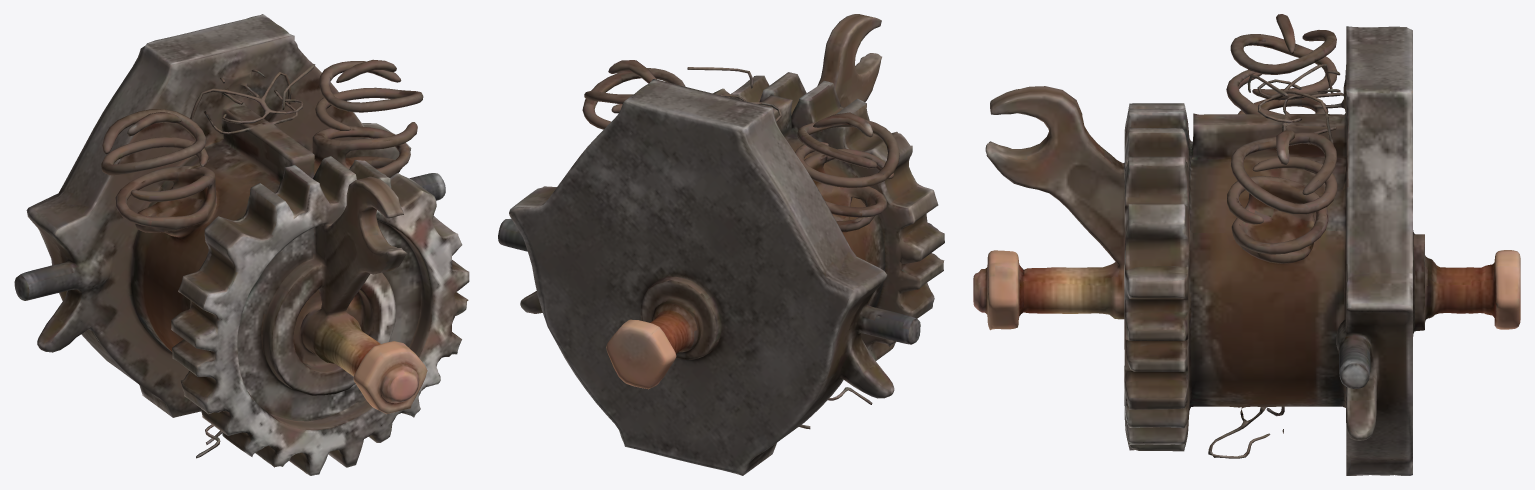
File: loot_scrap.glb
3 views of the same model, side by side, from view 1: azimuth 30°, elevation 25°; view 2: azimuth 150°, elevation 25°; view 3: azimuth 270°, elevation 25° (orthographic). The views are drawn at different scales.
Visible parts, largest first — view 1: loot_scrap; view 2: loot_scrap; view 3: loot_scrap.
Boxes of the visible parts, x1,y1,x2,y2 form: loot_scrap: (14,14,469,475); loot_scrap: (498,14,944,475); loot_scrap: (973,14,1520,475).
Bounding box in the file's own units: 0.824 × 0.6611 × 0.85.
1 material, 1 textured.
